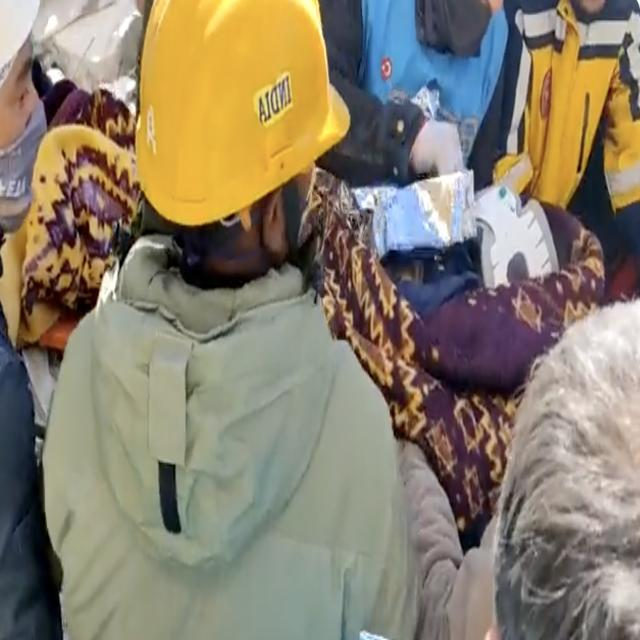Safety-Helmet: (130, 0, 353, 231), (0, 0, 42, 89)
